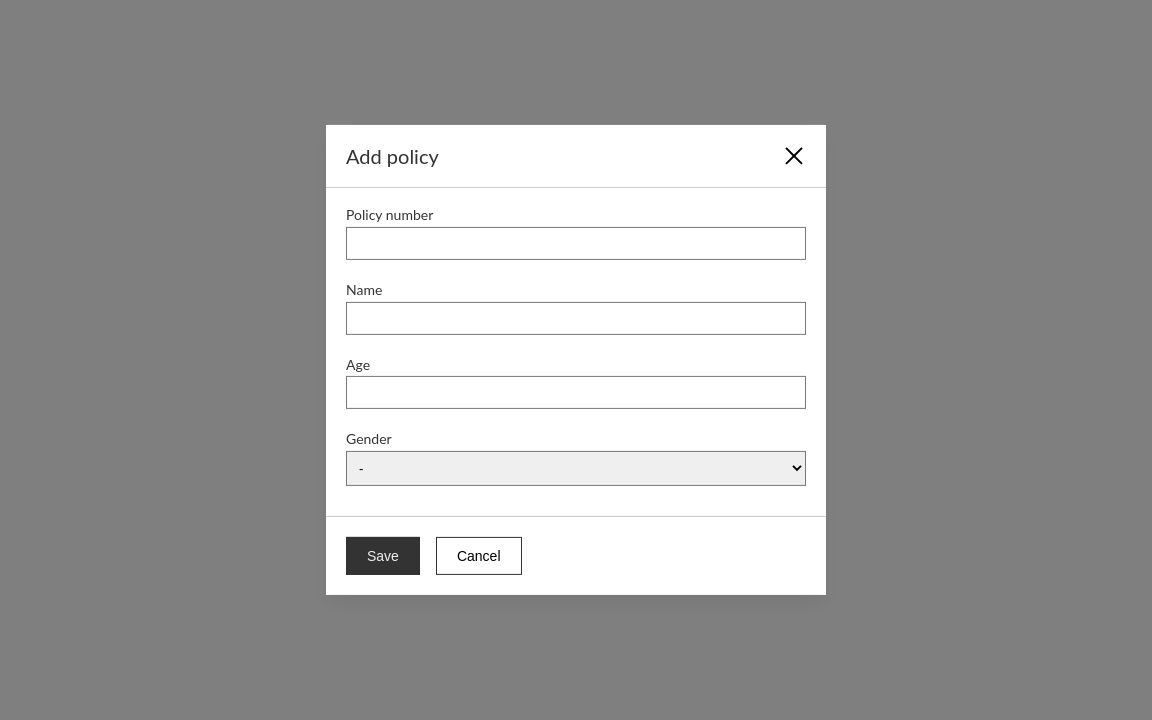
Policy form validation tests › when policy number is left blank, shows relevant error
Click the button "Save" at (383, 556), box [346,537,420,575]
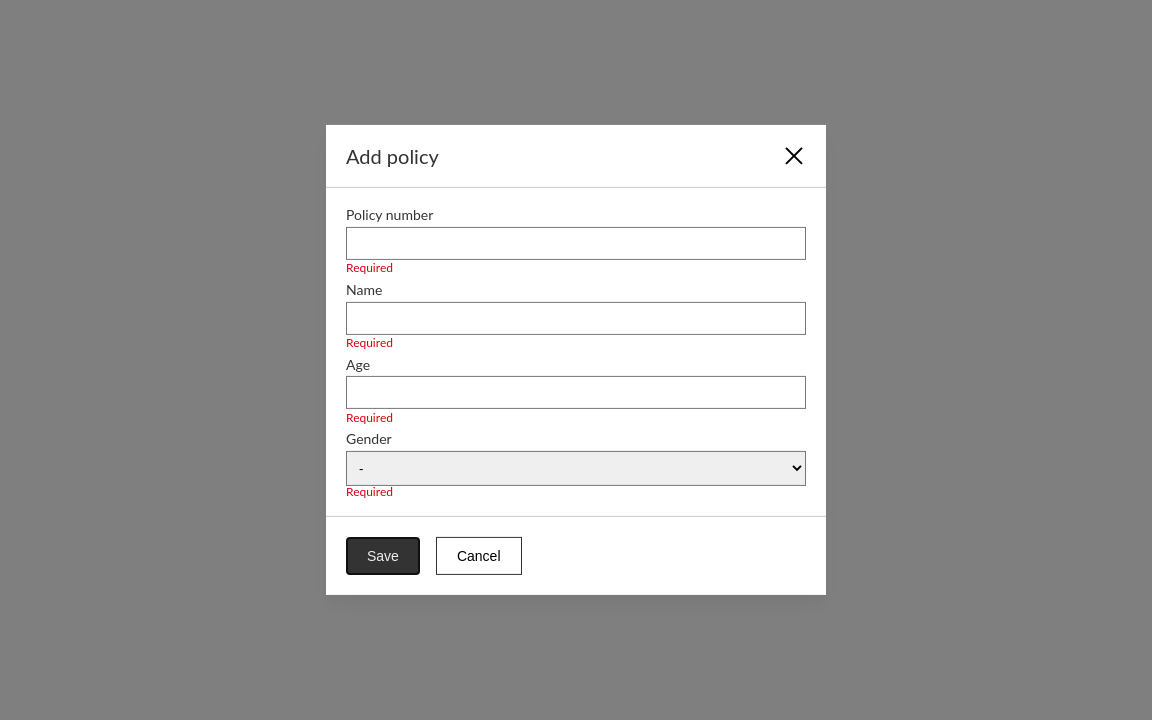
Check: the text "Required" below "Policy number" is shown, box [346,260,393,275]
